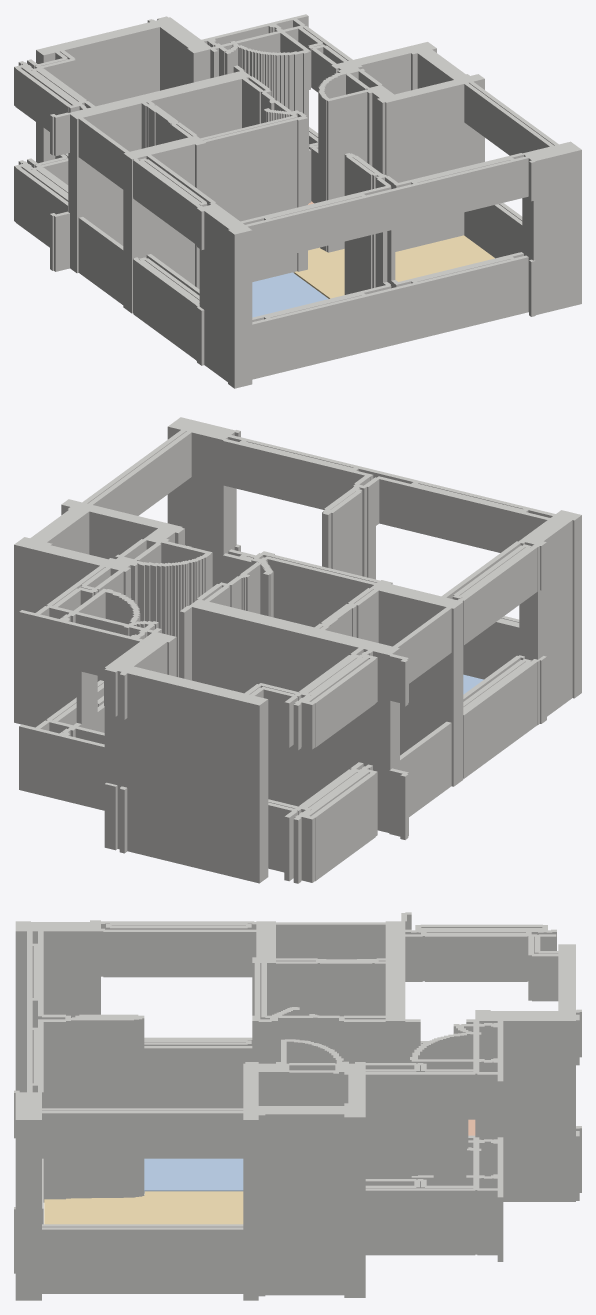
The picture shows the model from 3 angles, top to bottom: view 1: azimuth 30°, elevation 25°; view 2: azimuth 150°, elevation 25°; view 3: azimuth 270°, elevation 25°; orthographic projection. The views are drawn at different scales.
Visible parts, largest first — view 1: walls, room:living:6, room:bedroom:5; view 2: walls; view 3: walls, room:living:6, room:bedroom:5.
Boxes of the visible parts, <box> form: walls: <box>14,14,581,388</box>; room:living:6: <box>294,235,494,298</box>; room:bedroom:5: <box>252,272,328,317</box>; walls: <box>14,417,581,883</box>; walls: <box>14,912,581,1300</box>; room:living:6: <box>44,1191,243,1224</box>; room:bedroom:5: <box>144,1158,243,1193</box>.
Bounding box in the file's own units: 6.9 × 2.8 × 7.97.
